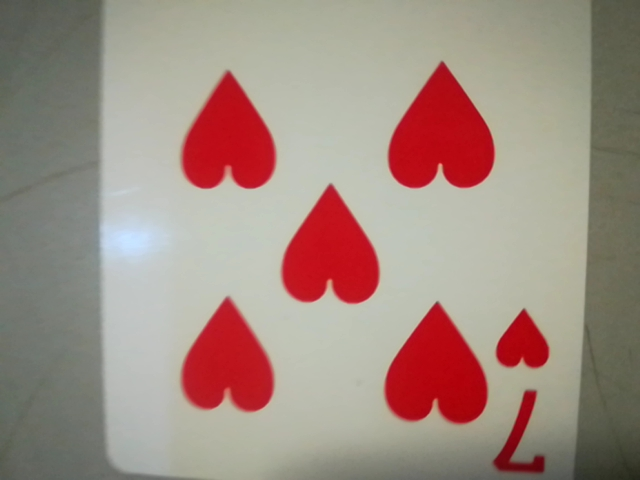hx 7: (481, 301, 569, 480)
